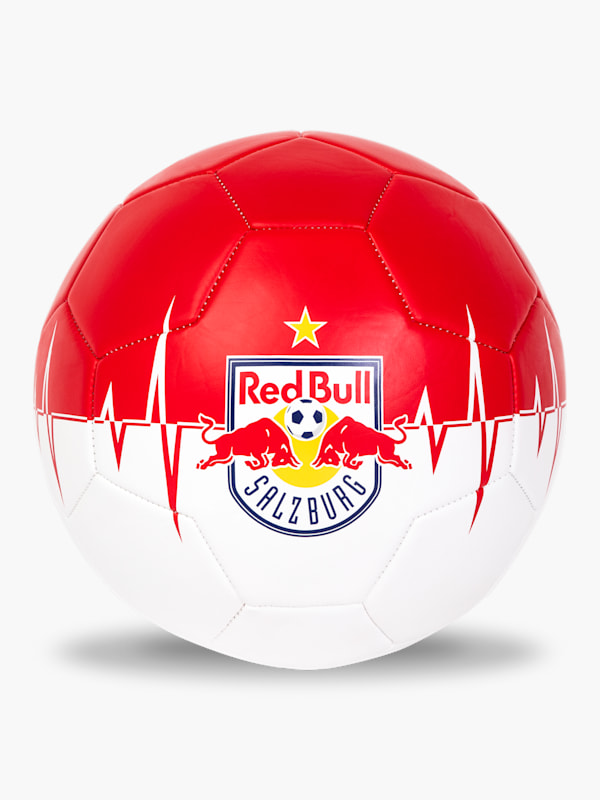sphere: (34, 130, 567, 671)
